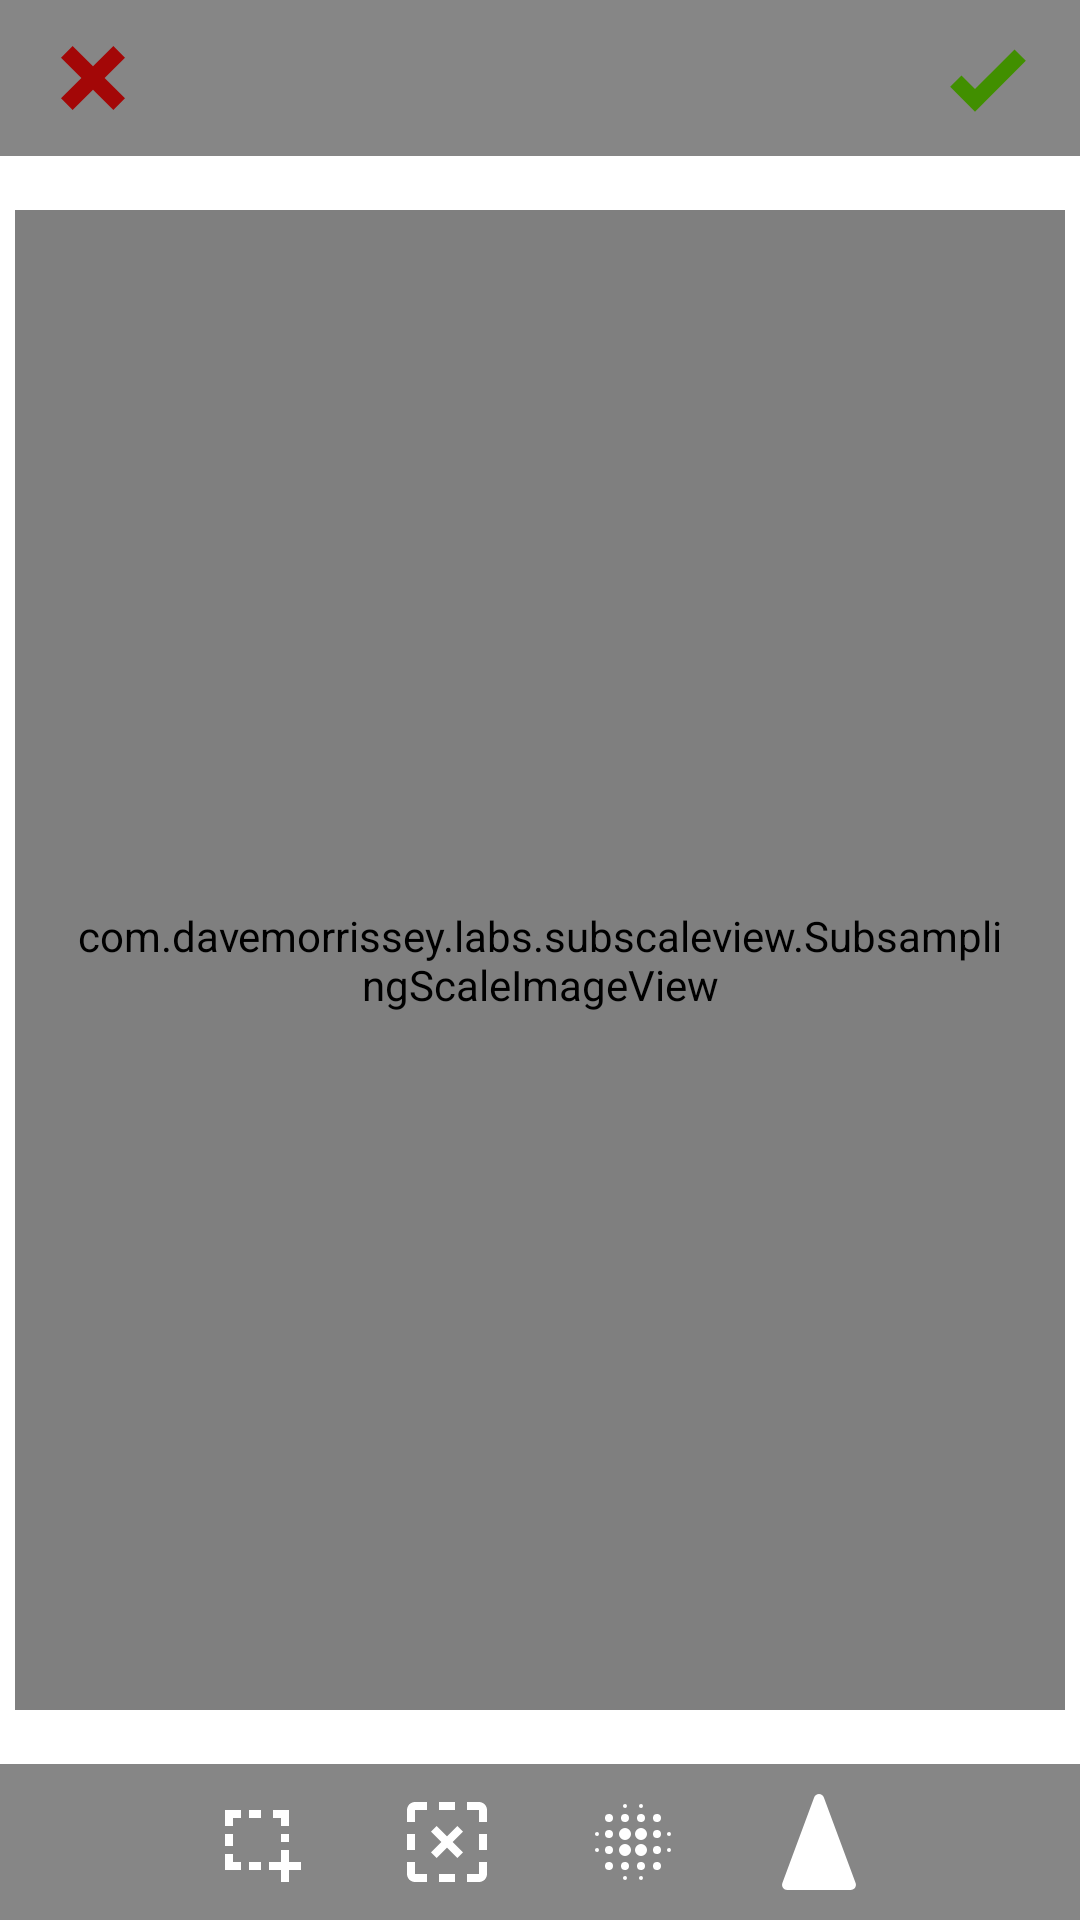

Where icons sit on this 1080×1920 app screen, as (x1, y1, x2, y2):
blur: (595, 1804, 671, 1880)
check: (950, 49, 1026, 112)
close thick: (61, 46, 125, 110)
selection drag: (225, 1810, 301, 1882)
selection remove: (407, 1802, 487, 1882)
sharpen: (782, 1794, 856, 1890)
